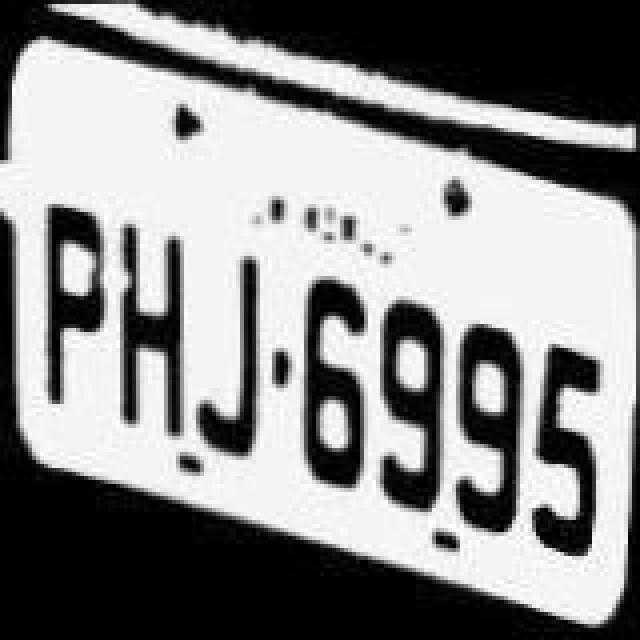5: (522, 348, 606, 564)
6: (292, 278, 372, 494)
9: (372, 304, 452, 520), (450, 332, 526, 540)
H: (108, 220, 192, 440)
J: (188, 258, 272, 462)
P: (38, 204, 110, 404)
